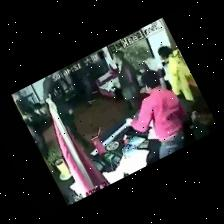person: (126, 71, 186, 158), (42, 77, 88, 147), (158, 47, 193, 101), (112, 51, 141, 111)
